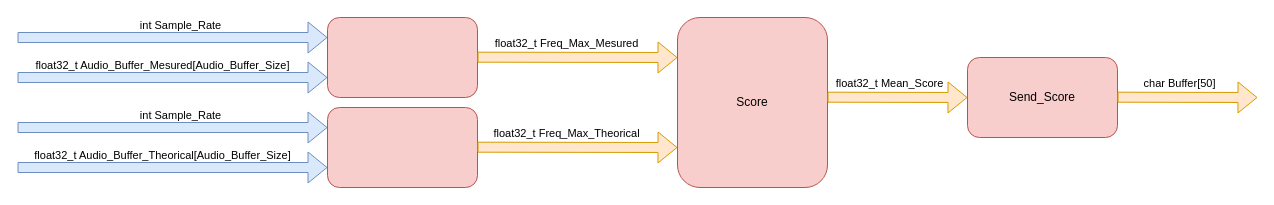
This 1274x205 diagram has some shape labels left out. The shapes that lost their labels are listed below. From the top down, each one's centre as x and y in pixels, then its label:
(x=402, y=57): Max_Frequency_Mesured
(x=402, y=147): Max_Frequency_Theorical
